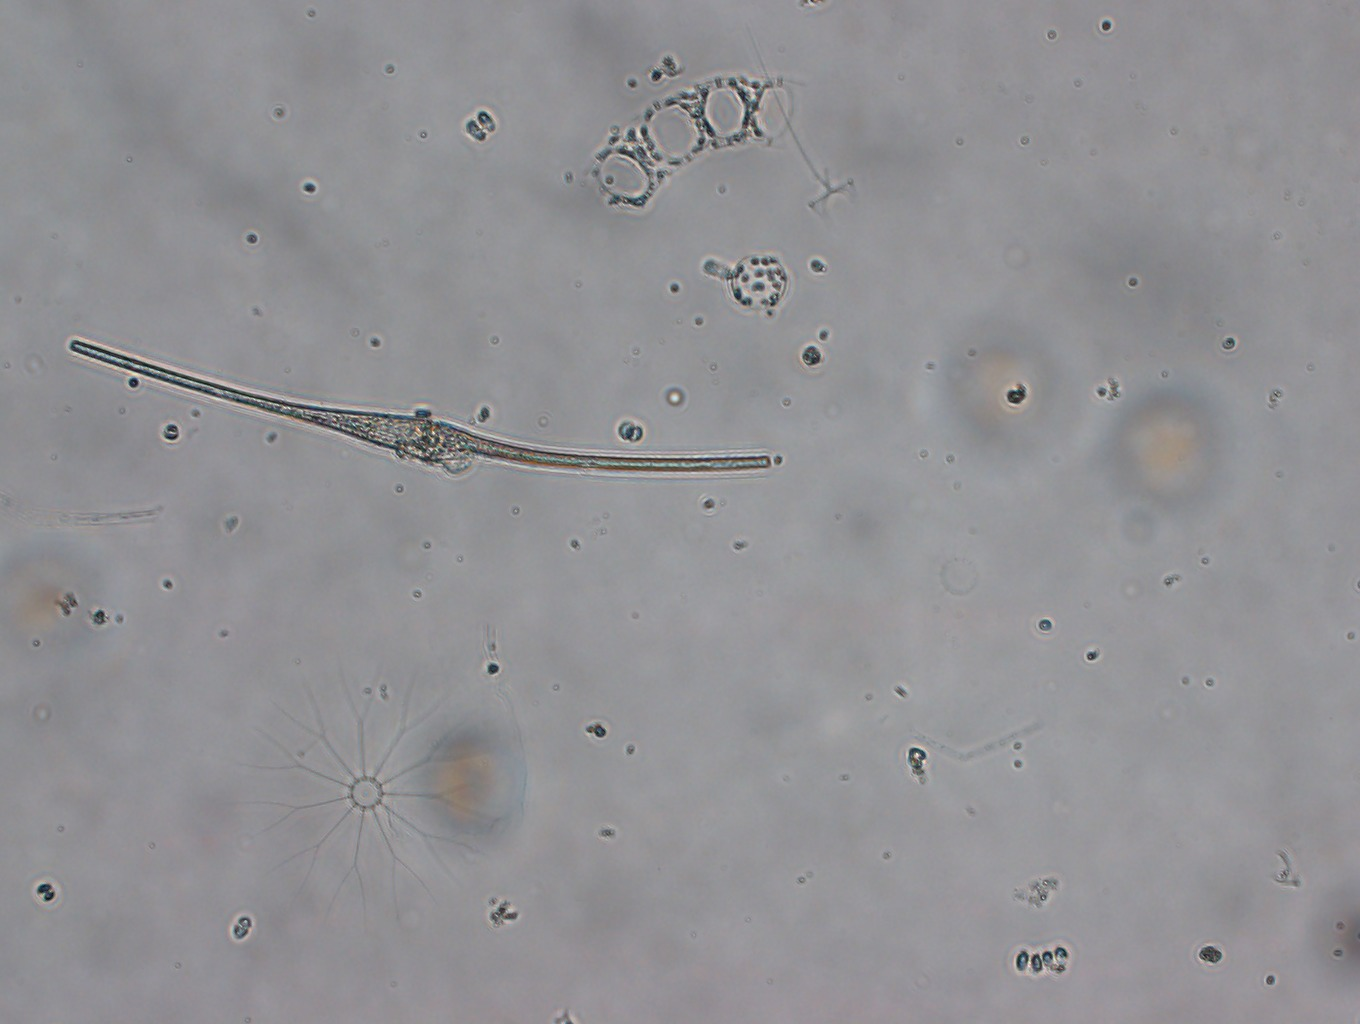bacteriastrum: (257, 669, 478, 894)
ceratium fusus: (62, 336, 773, 474)
eucampia: (584, 73, 800, 215)
